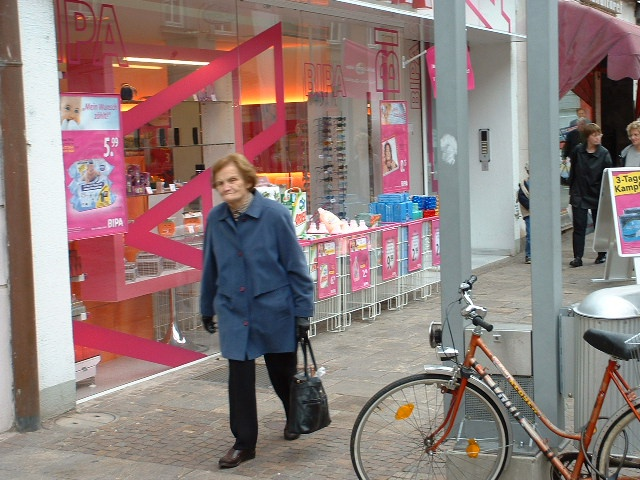person: (204, 153, 304, 468), (571, 120, 610, 265)
